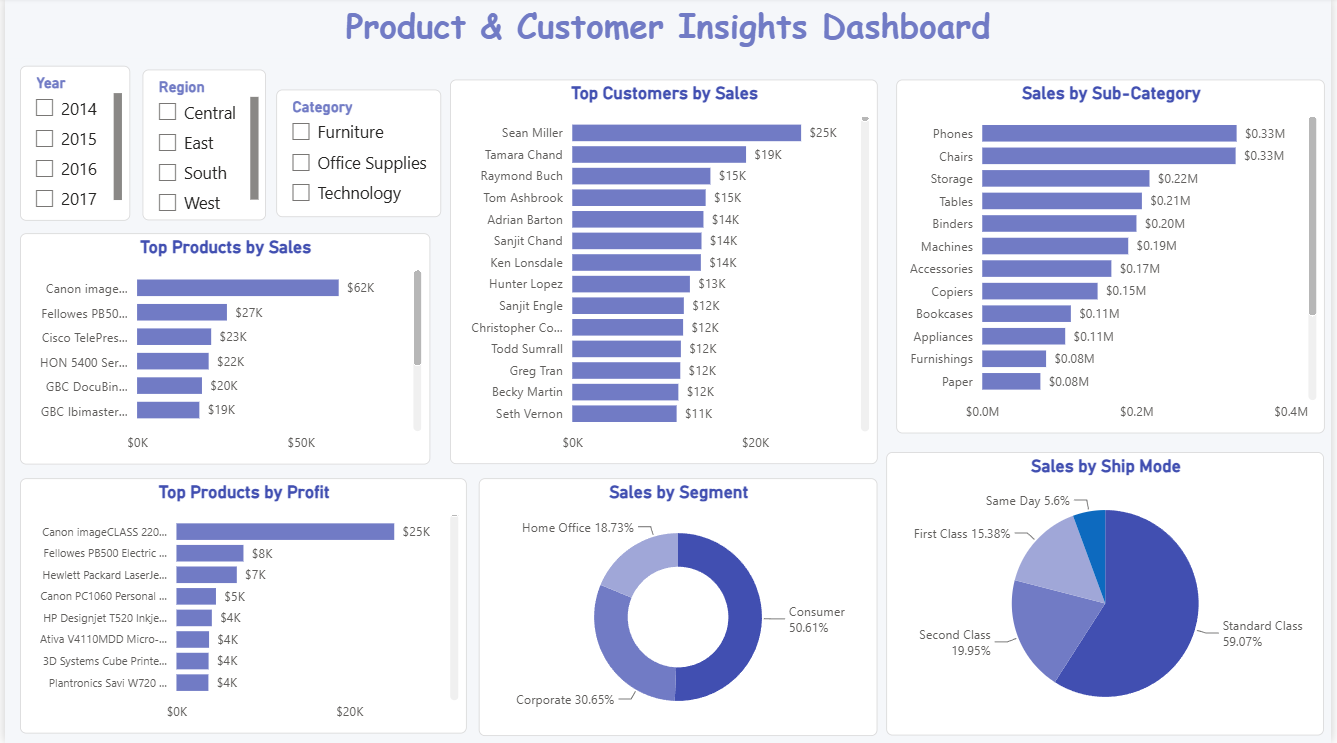

This screenshot's page, from the dashboard's own definition file:
{"tool":"powerbi","page":{"name":"Product & Customer Insights","canvas":[1280,720],"ordinal":2},"visuals":[{"type":"clusteredBarChart","title":"Top Products by Sales","fields":{"Category":["order_clean.product_name"],"Y":["Measures (2).Total Sales"]},"box":[14.7,227.9,395.7,223],"z":0},{"type":"clusteredBarChart","title":"Top Products by Profit","fields":{"Category":["order_clean.product_name"],"Y":["Measures (2).Total Profit"]},"box":[14.7,464.3,431.2,246.2],"z":1000},{"type":"clusteredBarChart","title":"Top Customers by Sales","fields":{"Category":["order_clean.customer_name"],"Y":["Measures (2).Total Sales"]},"box":[429.5,79.6,412.6,371.6],"z":2000},{"type":"donutChart","title":"Sales by Segment","fields":{"Category":["order_clean.Segment"],"Y":["Measures (2).Total Sales"]},"box":[457,464.3,384.7,248.7],"z":3000},{"type":"pieChart","title":"Sales by Ship Mode","fields":{"Category":["order_clean.ship_mode"],"Y":["Measures (2).Total Sales"]},"box":[850.2,438.6,422.7,273.2],"z":4000},{"type":"clusteredBarChart","title":"Sales by Sub-Category","fields":{"Category":["order_clean.sub_category"],"Y":["Measures (2).Total Sales"]},"box":[860.2,79.6,413.8,341.4],"z":5000},{"type":"slicer","fields":{"Values":["order_clean.Category"]},"box":[261.8,89.3,159.3,123.1],"z":6000},{"type":"textbox","box":[0,0,1280.2,58.8],"z":7000},{"type":"slicer","fields":{"Values":["order_clean.Region"]},"box":[132.7,70,119.4,146],"z":8000},{"type":"slicer","fields":{"Values":["Date Table.Year"]},"box":[14.7,66.2,106.6,149.5],"z":9000}]}

Visuals, with their boxes in screenshot pixels (x1, y1, x2, y2), scaled from the page's 1280x720 canvas onto the 1337x743 screenshot:
"Top Products by Sales" clusteredBarChart: Rect(15, 235, 429, 465)
"Top Products by Profit" clusteredBarChart: Rect(15, 479, 466, 733)
"Top Customers by Sales" clusteredBarChart: Rect(449, 82, 880, 466)
"Sales by Segment" donutChart: Rect(477, 479, 879, 736)
"Sales by Ship Mode" pieChart: Rect(888, 453, 1330, 735)
"Sales by Sub-Category" clusteredBarChart: Rect(899, 82, 1331, 434)
slicer - order_clean.Category: Rect(273, 92, 440, 219)
textbox: Rect(0, 0, 1336, 61)
slicer - order_clean.Region: Rect(139, 72, 263, 223)
slicer - Date Table.Year: Rect(15, 68, 127, 223)
